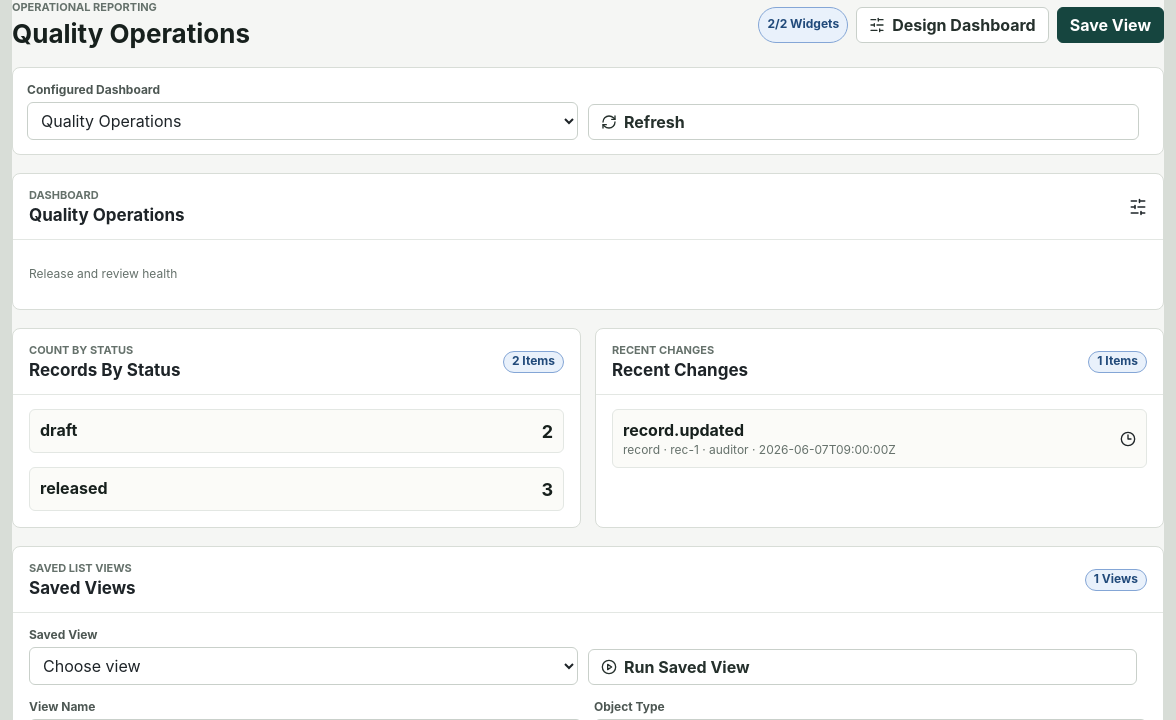
DashboardPage › loads a configured dashboard and runs a saved list view
Expected: the heading "Quality Operations" below "Operational reporting" is shown, [12,18,250,49]
Expected: the text "Release and review health" is shown, [29,266,177,281]
Select "Released Products" in the dropdown labelled "Saved View" at (304, 666), box [29,647,578,685]
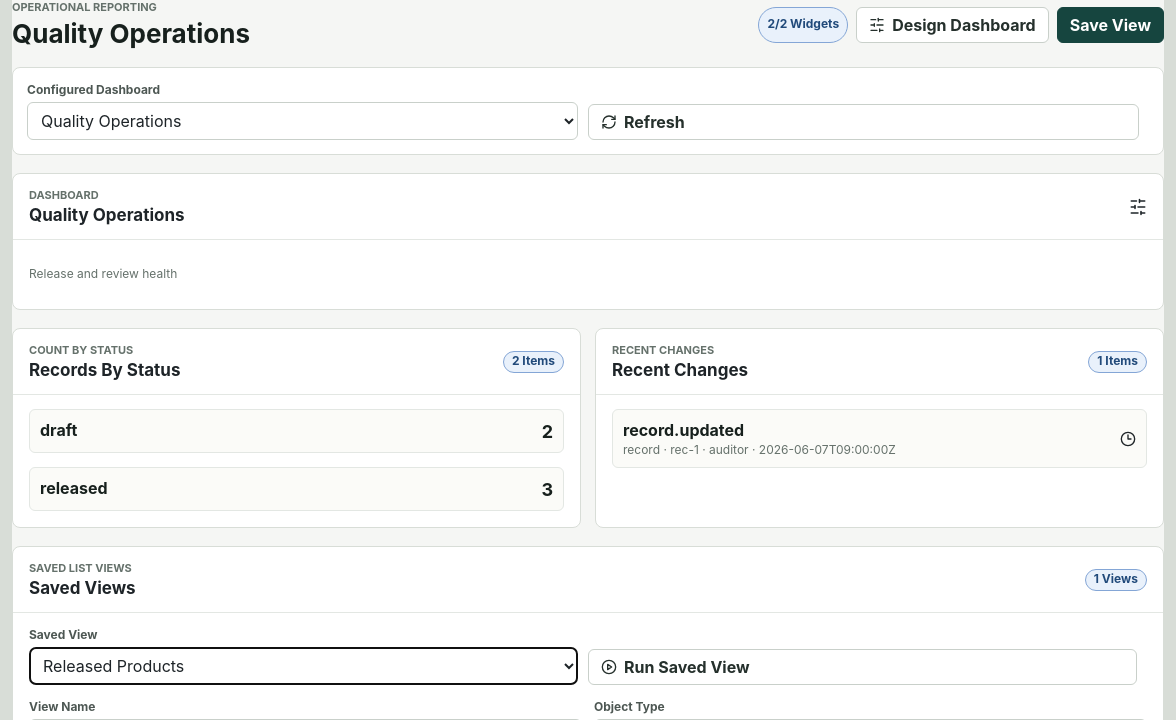
Click the button "Run Saved View" at (687, 667), box [588,649,1137,685]
(page scrolled)
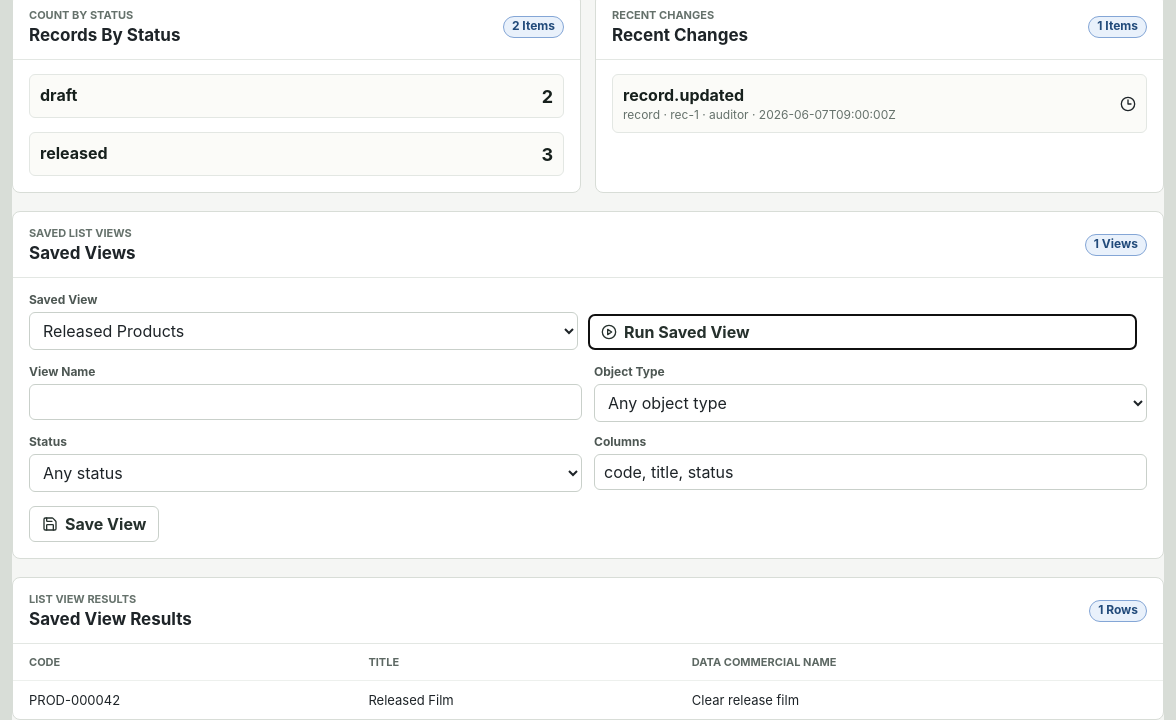
Result: the text "PROD-000042" is shown at [13,681,352,719]
Result: the text "Released Film" is shown at [352,681,676,719]
Result: the text "Clear release film" is shown at [676,681,1163,719]
